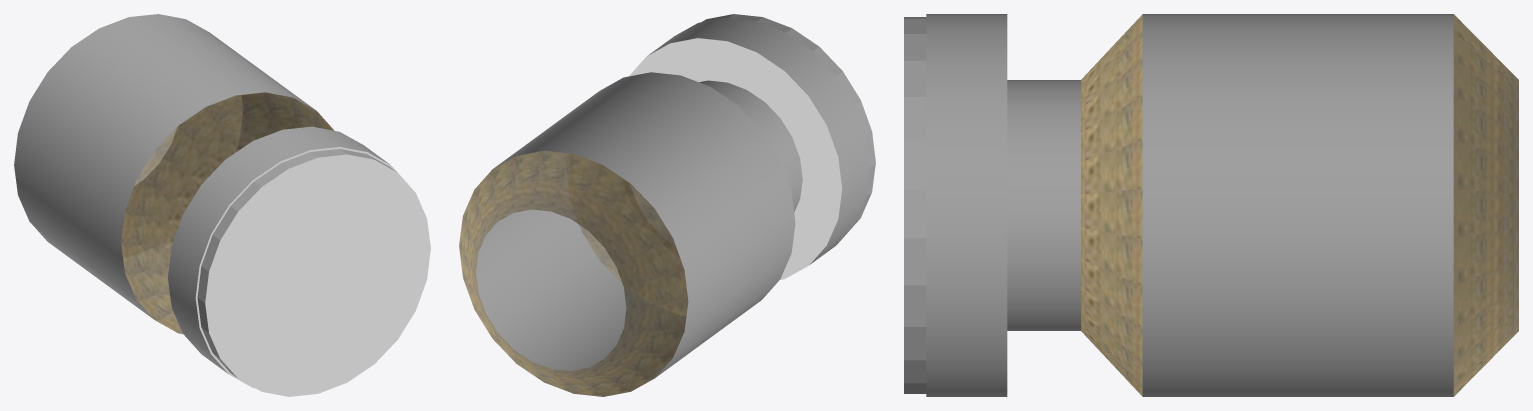
File: model_scale.obj
3 views of the same model, side by side, from view 1: azimuth 30°, elevation 25°; view 2: azimuth 150°, elevation 25°; view 3: azimuth 270°, elevation 25° (orthographic). The views are drawn at different scales.
Visible parts, largest first — view 1: mesh1_mesh1-geometry; view 2: mesh1_mesh1-geometry; view 3: mesh1_mesh1-geometry.
Boxes of the visible parts, x1,y1,x2,y2 form: mesh1_mesh1-geometry: (14, 14, 430, 396); mesh1_mesh1-geometry: (459, 14, 875, 396); mesh1_mesh1-geometry: (904, 14, 1518, 396).
Size of the model in its own units: 0.1414 by 0.1414 by 0.2261.
